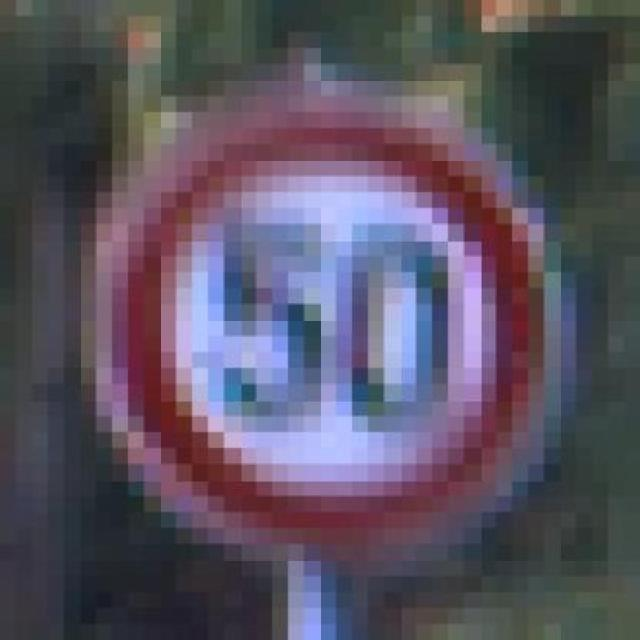forb_speed_over_50: (120, 113, 542, 542)
